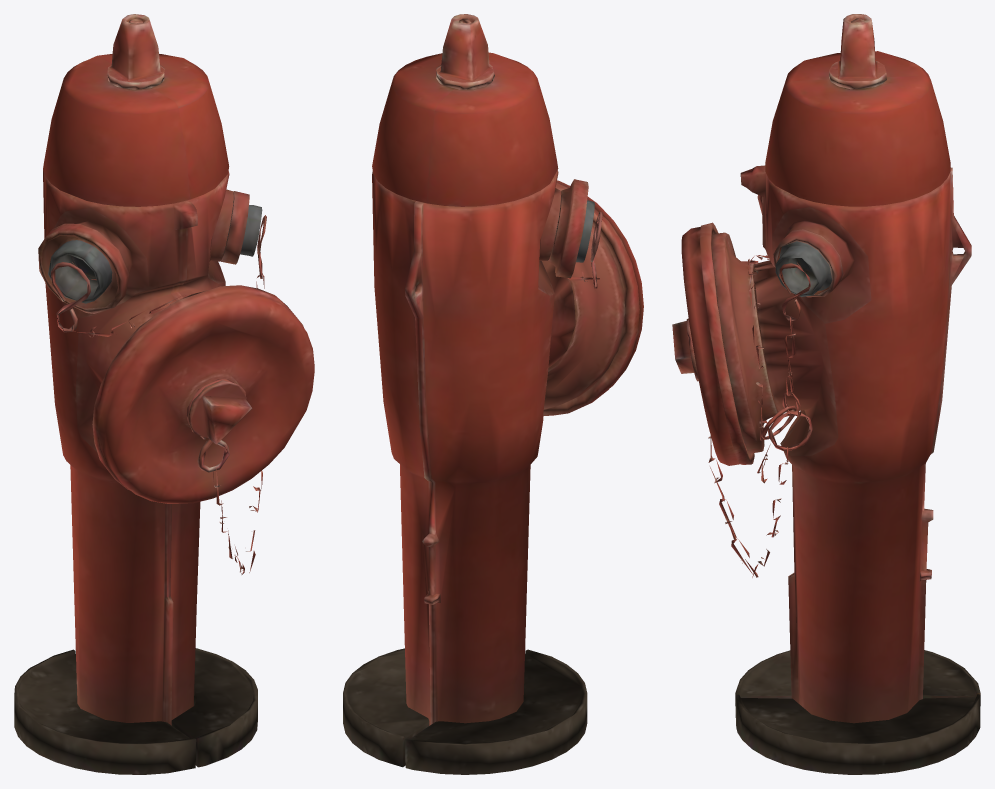
The model's file is borne_incendie_lod0.glb.
3 renders of one model, left to right at view 1: azimuth 30°, elevation 25°; view 2: azimuth 150°, elevation 25°; view 3: azimuth 270°, elevation 25°, orthographic.
Visible parts, largest first — view 1: fire_hydrant; view 2: fire_hydrant; view 3: fire_hydrant.
Boxes of the visible parts, left/top/right/bottom form: fire_hydrant: left=14, top=14, right=314, bottom=774; fire_hydrant: left=343, top=14, right=643, bottom=774; fire_hydrant: left=672, top=14, right=980, bottom=774.
Bounding box in the file's own units: 0.2565 × 0.7994 × 0.3173.
1 material, 1 textured.
